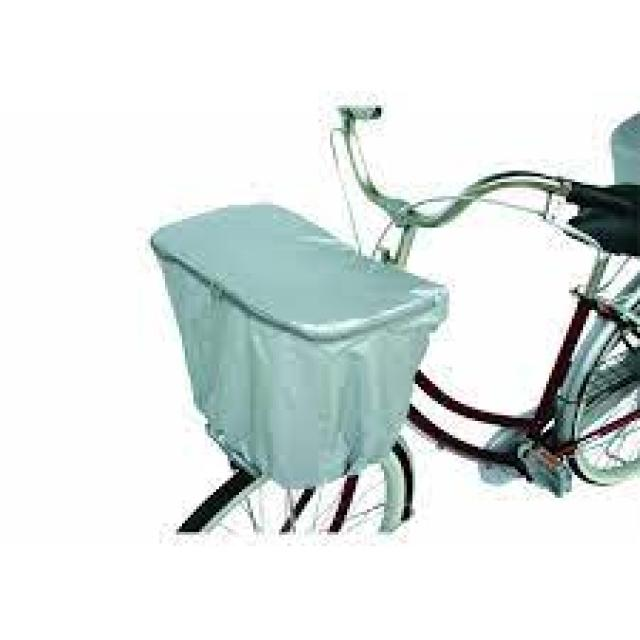basket: (150, 201, 448, 491)
